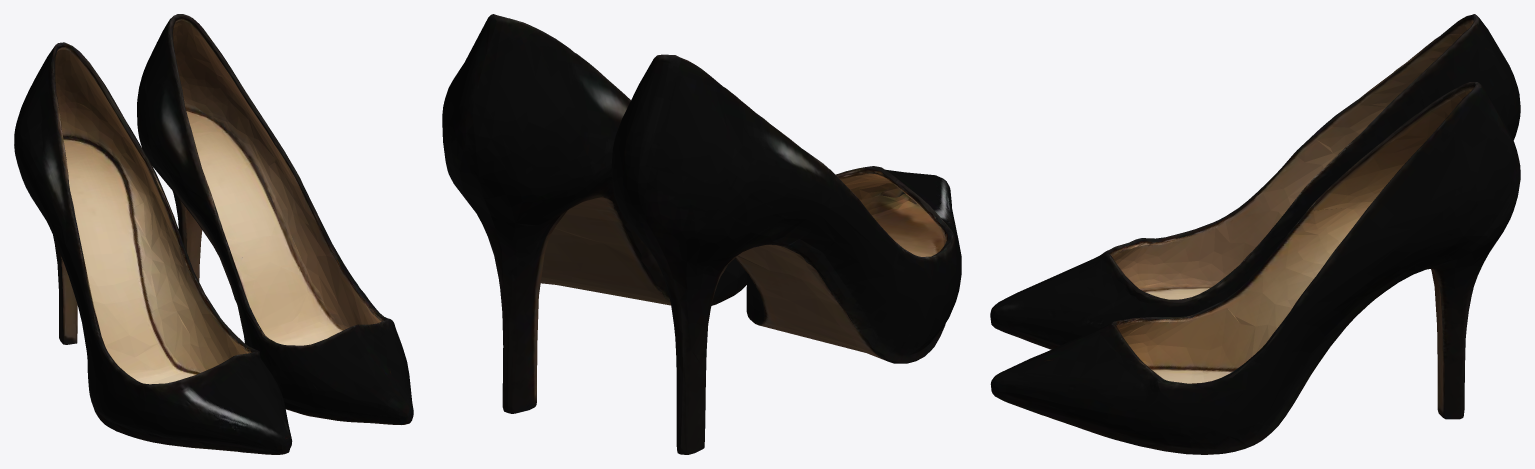
The picture shows the model from 3 angles, left to right: view 1: azimuth 30°, elevation 25°; view 2: azimuth 150°, elevation 25°; view 3: azimuth 270°, elevation 25°; orthographic projection. The views are drawn at different scales.
Visible parts, largest first — view 1: geometry_0; view 2: geometry_0; view 3: geometry_0.
Part boxes in pixels (box(x1,y1,x2,y2)): geometry_0: box(14, 14, 413, 454); geometry_0: box(442, 14, 961, 454); geometry_0: box(990, 14, 1520, 454).
Bounding box in the file's own units: 0.6943 × 0.6934 × 1.
Materials: 1 (1 with a texture image).
